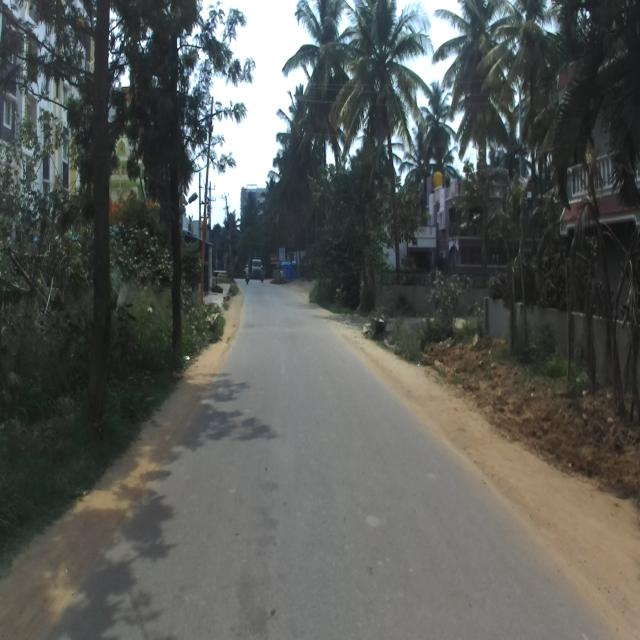tree ahead at: (69, 5, 130, 374), (131, 12, 193, 370)
